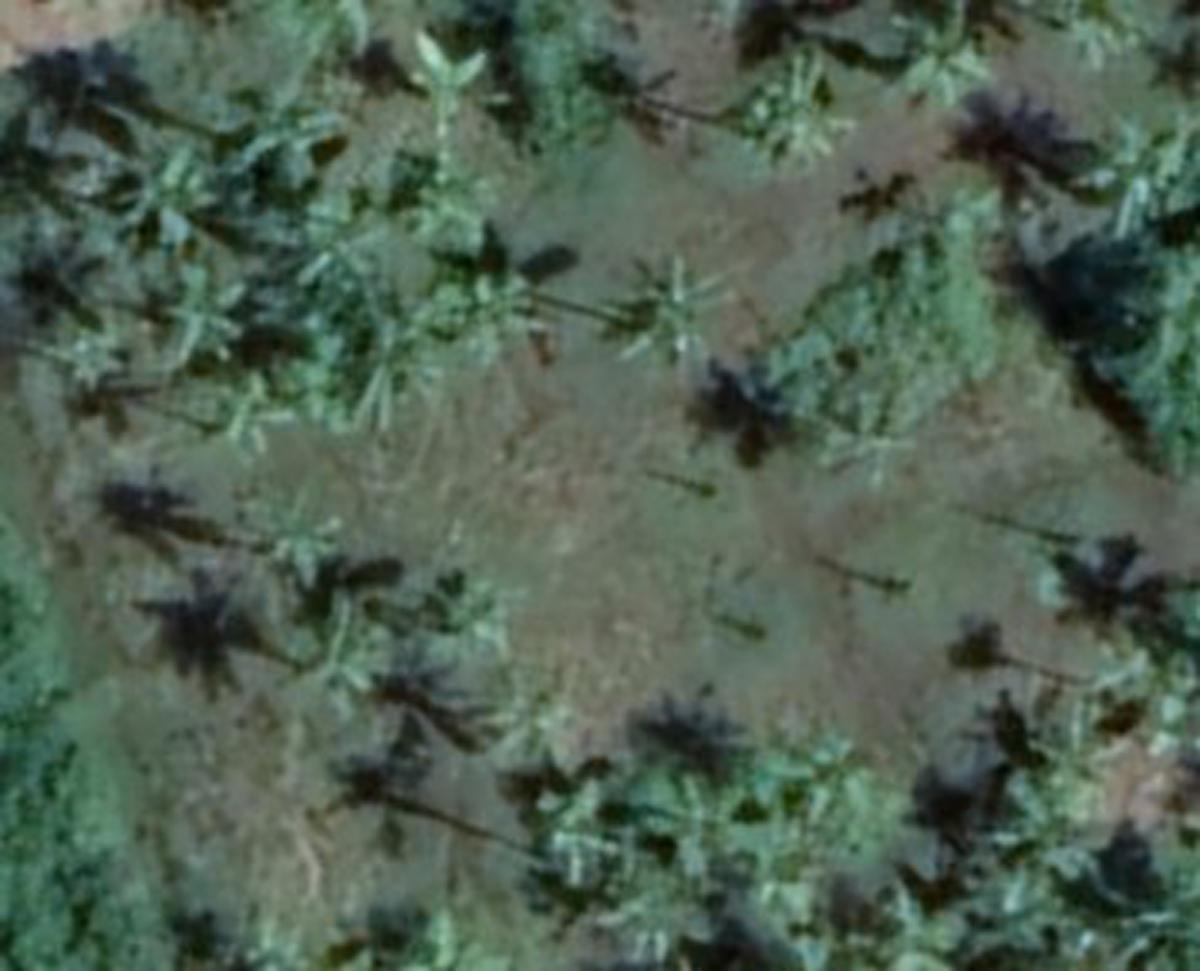coconut: (377, 20, 522, 134), (991, 765, 1115, 886), (734, 47, 856, 168), (138, 259, 266, 374), (1065, 128, 1189, 239), (637, 765, 758, 876), (107, 144, 229, 252), (492, 677, 610, 788), (340, 303, 448, 421), (606, 256, 721, 364), (225, 94, 353, 188), (1028, 687, 1132, 795), (886, 3, 991, 107), (819, 387, 920, 492), (431, 262, 539, 360), (522, 778, 620, 879), (967, 869, 1065, 960), (310, 600, 401, 697), (421, 559, 519, 647), (296, 205, 394, 293), (600, 886, 704, 964), (212, 377, 306, 451), (269, 519, 350, 600)
